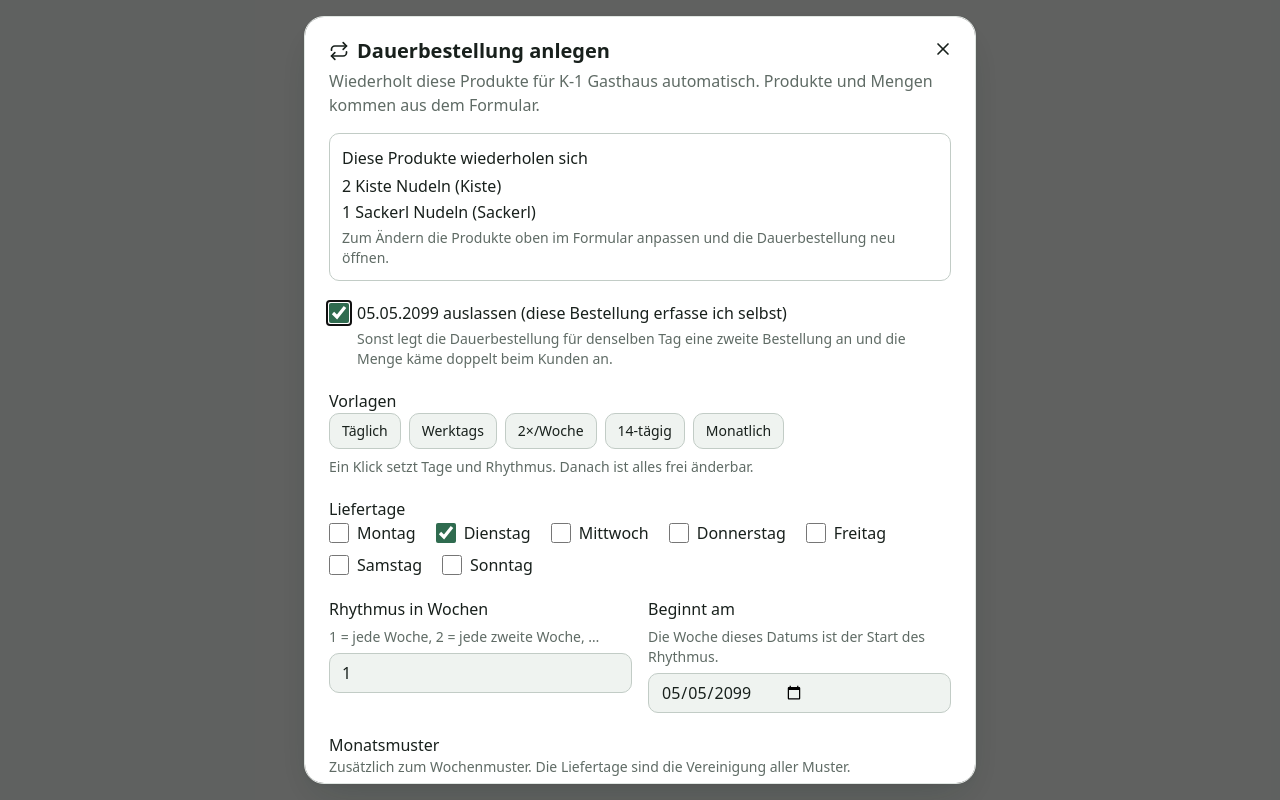
OrderRecurringDialog (NUD-166, NUD-171) › refuses to save without a delivery day and offers the monthly pattern instead
The width and height of the screenshot is (1280, 800).
Later steps or results of the test are not shown.
Click the checkbox with test id "order-recurring-weekday-2" at (446, 533), box left=436, top=523, right=456, bottom=543
(page scrolled)
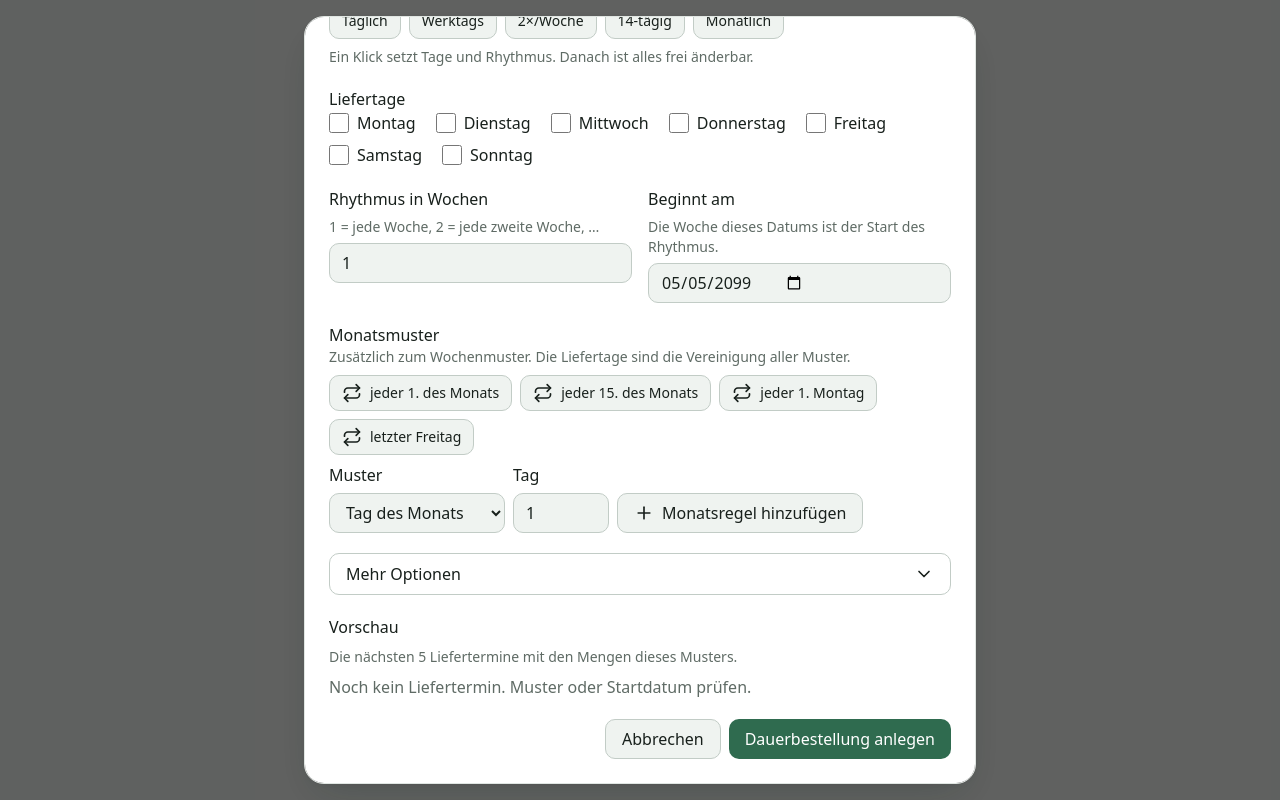
Click the button with test id "order-recurring-save" at (840, 739), box left=729, top=719, right=951, bottom=759
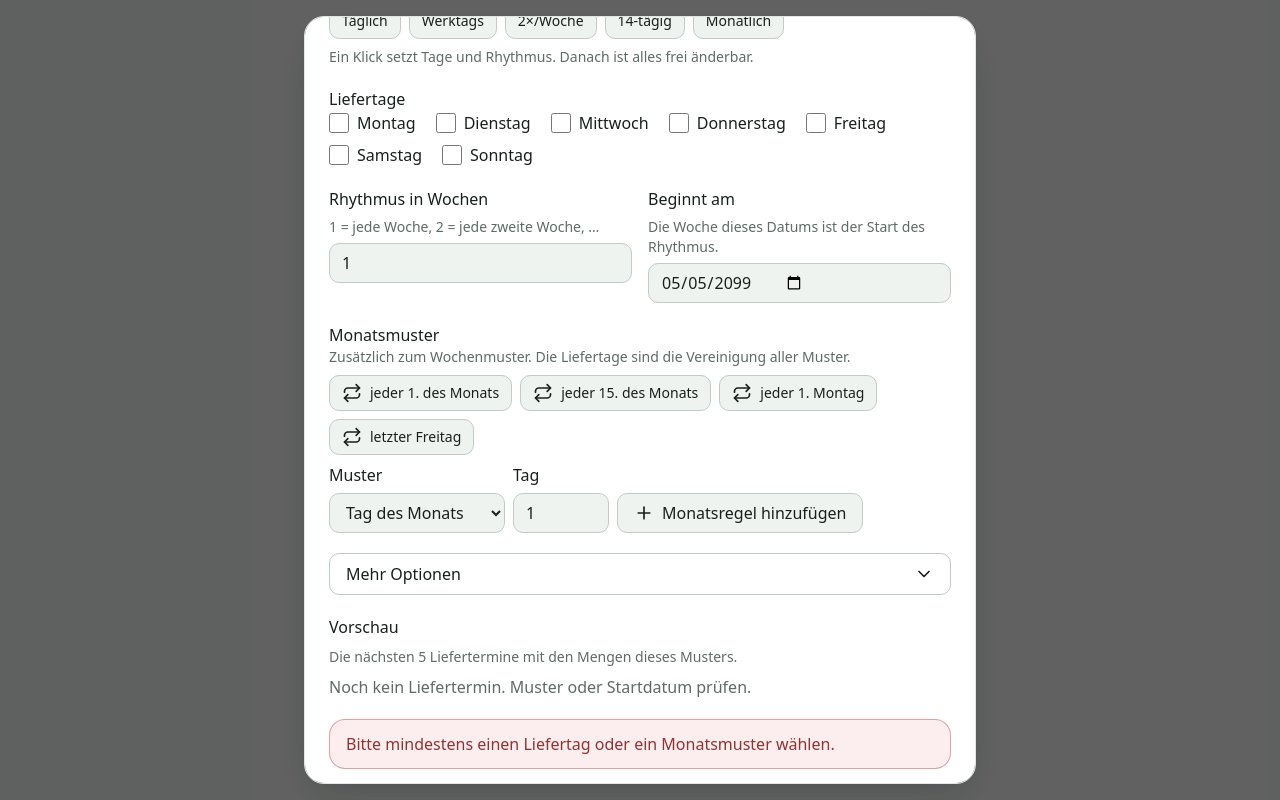
Now the message with test id "order-recurring-error" shows "Bitte mindestens einen Liefertag", box left=346, top=733, right=835, bottom=755
